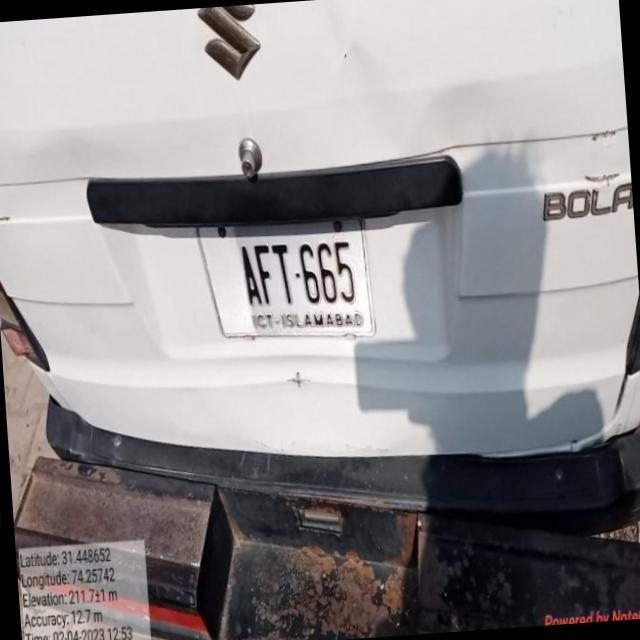LicensePlate: (189, 195, 385, 365)
